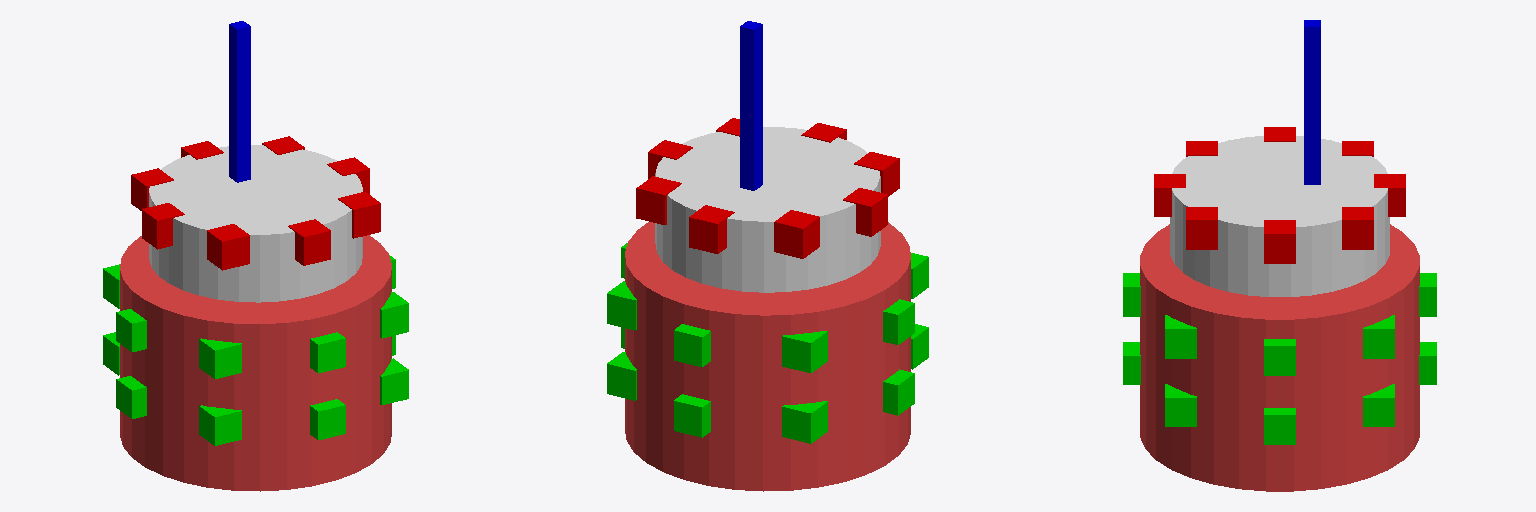
URDF robot description (random_bottle):
<?xml version="1.0"?>
<robot name="random_bottle">

  <!-- Define the cap link -->
  <link name="link1">
    <visual>
      <geometry>
        <mesh filename="cap.obj" scale="1.0 1.0 1.0"/>
      </geometry>
       <material name="white">
        <color rgba=".9 .9 .9 1"/>
      </material>

    </visual>
    <collision>
      <geometry>
        <mesh filename="cap.obj" scale="1.0 1.0 1.0"/>
      </geometry>
    </collision>

    <inertial>
      <mass value="0.012884635462993625"/> <!-- You can adjust the mass as needed -->
      <origin rpy="0 0 0" xyz="0 0 0"/>
      <inertia ixx="4.253213119469142e-06" ixy="0.0" ixz="0.0" iyy="4.253213119469142e-06" iyz="0.0" izz="7.326267027209225e-06"/>
    </inertial>
  </link>

    <link name="l10">
    <visual>
      <geometry>
        <box size="0.01 0.01 0.01"/>
      </geometry>

      <material name="red">
        <color rgba="0.9 0.0 0.0 1"/>
      </material>

    </visual>

    <inertial>
      <mass value="0.0001"/> <!-- You can adjust the mass as needed -->
      <origin rpy="0 0 0" xyz="0 0 -0.00"/> <!-- Offset by half of link1's height + 0.03m for the margin -->
      <inertia ixx="0.000000003" ixy="0.0" ixz="0.0" iyy="0.0000003" iyz="0.0" izz="0.00000003"/>
    </inertial>

  </link>
  <link name="l11">
    <visual>
      <geometry>
        <box size="0.01 0.01 0.01"/>
      </geometry>

      <material name="red">
        <color rgba="0.9 0.0 0.0 1"/>
      </material>

    </visual>

    <inertial>
      <mass value="0.0001"/> <!-- You can adjust the mass as needed -->
      <origin rpy="0 0 0" xyz="0 0 -0.00"/> <!-- Offset by half of link1's height + 0.03m for the margin -->
      <inertia ixx="0.000000003" ixy="0.0" ixz="0.0" iyy="0.0000003" iyz="0.0" izz="0.00000003"/>
    </inertial>

  </link>
  <link name="l12">
    <visual>
      <geometry>
        <box size="0.01 0.01 0.01"/>
      </geometry>

      <material name="red">
        <color rgba="0.9 0.0 0.0 1"/>
      </material>

    </visual>

    <inertial>
      <mass value="0.0001"/> <!-- You can adjust the mass as needed -->
      <origin rpy="0 0 0" xyz="0 0 -0.00"/> <!-- Offset by half of link1's height + 0.03m for the margin -->
      <inertia ixx="0.000000003" ixy="0.0" ixz="0.0" iyy="0.0000003" iyz="0.0" izz="0.00000003"/>
    </inertial>

  </link>
  <link name="l13">
    <visual>
      <geometry>
        <box size="0.01 0.01 0.01"/>
      </geometry>

      <material name="red">
        <color rgba="0.9 0.0 0.0 1"/>
      </material>

    </visual>

    <inertial>
      <mass value="0.0001"/> <!-- You can adjust the mass as needed -->
      <origin rpy="0 0 0" xyz="0 0 -0.00"/> <!-- Offset by half of link1's height + 0.03m for the margin -->
      <inertia ixx="0.000000003" ixy="0.0" ixz="0.0" iyy="0.0000003" iyz="0.0" izz="0.00000003"/>
    </inertial>

  </link>
  <link name="l10b">
    <visual>
      <geometry>
        <box size="0.01 0.01 0.01"/>
      </geometry>

      <material name="red">
        <color rgba="0.9 0.0 0.0 1"/>
      </material>

    </visual>

    <inertial>
      <mass value="0.0001"/> <!-- You can adjust the mass as needed -->
      <origin rpy="0 0 0" xyz="0 0 -0.00"/> <!-- Offset by half of link1's height + 0.03m for the margin -->
      <inertia ixx="0.000000003" ixy="0.0" ixz="0.0" iyy="0.0000003" iyz="0.0" izz="0.00000003"/>
    </inertial>

  </link>
  <link name="l11b">
    <visual>
      <geometry>
        <box size="0.01 0.01 0.01"/>
      </geometry>

      <material name="red">
        <color rgba="0.9 0.0 0.0 1"/>
      </material>

    </visual>

    <inertial>
      <mass value="0.0001"/> <!-- You can adjust the mass as needed -->
      <origin rpy="0 0 0" xyz="0 0 -0.00"/> <!-- Offset by half of link1's height + 0.03m for the margin -->
      <inertia ixx="0.000000003" ixy="0.0" ixz="0.0" iyy="0.0000003" iyz="0.0" izz="0.00000003"/>
    </inertial>

  </link>
  <link name="l12b">
    <visual>
      <geometry>
        <box size="0.01 0.01 0.01"/>
      </geometry>

      <material name="red">
        <color rgba="0.9 0.0 0.0 1"/>
      </material>

    </visual>

    <inertial>
      <mass value="0.0001"/> <!-- You can adjust the mass as needed -->
      <origin rpy="0 0 0" xyz="0 0 -0.00"/> <!-- Offset by half of link1's height + 0.03m for the margin -->
      <inertia ixx="0.000000003" ixy="0.0" ixz="0.0" iyy="0.0000003" iyz="0.0" izz="0.00000003"/>
    </inertial>

  </link>
  <link name="l13b">
    <visual>
      <geometry>
        <box size="0.01 0.01 0.01"/>
      </geometry>

      <material name="red">
        <color rgba="0.9 0.0 0.0 1"/>
      </material>

    </visual>

    <inertial>
      <mass value="0.0001"/> <!-- You can adjust the mass as needed -->
      <origin rpy="0 0 0" xyz="0 0 -0.00"/> <!-- Offset by half of link1's height + 0.03m for the margin -->
      <inertia ixx="0.000000003" ixy="0.0" ixz="0.0" iyy="0.0000003" iyz="0.0" izz="0.00000003"/>
    </inertial>

  </link>
  <link name="l20">
    <visual>
      <geometry>
        <box size="0.01 0.01 0.01"/>
      </geometry>

      <material name="red">
        <color rgba="0.0 0.9 0.0 1"/>
      </material>

    </visual>

    <inertial>
      <mass value="0.0001"/> <!-- You can adjust the mass as needed -->
      <origin rpy="0 0 0" xyz="0 0 -0.00"/> <!-- Offset by half of link1's height + 0.03m for the margin -->
      <inertia ixx="0.000000003" ixy="0.0" ixz="0.0" iyy="0.0000003" iyz="0.0" izz="0.00000003"/>
    </inertial>

  </link>
  <link name="l21">
    <visual>
      <geometry>
        <box size="0.01 0.01 0.01"/>
      </geometry>

      <material name="red">
        <color rgba="0.0 0.9 0.0 1"/>
      </material>

    </visual>

    <inertial>
      <mass value="0.0001"/> <!-- You can adjust the mass as needed -->
      <origin rpy="0 0 0" xyz="0 0 -0.00"/> <!-- Offset by half of link1's height + 0.03m for the margin -->
      <inertia ixx="0.000000003" ixy="0.0" ixz="0.0" iyy="0.0000003" iyz="0.0" izz="0.00000003"/>
    </inertial>

  </link>
  <link name="l22">
    <visual>
      <geometry>
        <box size="0.01 0.01 0.01"/>
      </geometry>

      <material name="red">
        <color rgba="0.0 0.9 0.0 1"/>
      </material>

    </visual>

    <inertial>
      <mass value="0.0001"/> <!-- You can adjust the mass as needed -->
      <origin rpy="0 0 0" xyz="0 0 -0.00"/> <!-- Offset by half of link1's height + 0.03m for the margin -->
      <inertia ixx="0.000000003" ixy="0.0" ixz="0.0" iyy="0.0000003" iyz="0.0" izz="0.00000003"/>
    </inertial>

  </link>
  <link name="l23">
    <visual>
      <geometry>
        <box size="0.01 0.01 0.01"/>
      </geometry>

      <material name="red">
        <color rgba="0.0 0.9 0.0 1"/>
      </material>

    </visual>

    <inertial>
      <mass value="0.0001"/> <!-- You can adjust the mass as needed -->
      <origin rpy="0 0 0" xyz="0 0 -0.00"/> <!-- Offset by half of link1's height + 0.03m for the margin -->
      <inertia ixx="0.000000003" ixy="0.0" ixz="0.0" iyy="0.0000003" iyz="0.0" izz="0.00000003"/>
    </inertial>

  </link>
  <link name="l24">
    <visual>
      <geometry>
        <box size="0.01 0.01 0.01"/>
      </geometry>

      <material name="red">
        <color rgba="0.0 0.9 0.0 1"/>
      </material>

    </visual>

    <inertial>
      <mass value="0.0001"/> <!-- You can adjust the mass as needed -->
      <origin rpy="0 0 0" xyz="0 0 -0.00"/> <!-- Offset by half of link1's height + 0.03m for the margin -->
      <inertia ixx="0.000000003" ixy="0.0" ixz="0.0" iyy="0.0000003" iyz="0.0" izz="0.00000003"/>
    </inertial>

  </link>
  <link name="l25">
    <visual>
      <geometry>
        <box size="0.01 0.01 0.01"/>
      </geometry>

      <material name="red">
        <color rgba="0.0 0.9 0.0 1"/>
      </material>

    </visual>

    <inertial>
      <mass value="0.0001"/> <!-- You can adjust the mass as needed -->
      <origin rpy="0 0 0" xyz="0 0 -0.00"/> <!-- Offset by half of link1's height + 0.03m for the margin -->
      <inertia ixx="0.000000003" ixy="0.0" ixz="0.0" iyy="0.0000003" iyz="0.0" izz="0.00000003"/>
    </inertial>

  </link>
  <link name="l26">
    <visual>
      <geometry>
        <box size="0.01 0.01 0.01"/>
      </geometry>

      <material name="red">
        <color rgba="0.0 0.9 0.0 1"/>
      </material>

    </visual>

    <inertial>
      <mass value="0.0001"/> <!-- You can adjust the mass as needed -->
      <origin rpy="0 0 0" xyz="0 0 -0.00"/> <!-- Offset by half of link1's height + 0.03m for the margin -->
      <inertia ixx="0.000000003" ixy="0.0" ixz="0.0" iyy="0.0000003" iyz="0.0" izz="0.00000003"/>
    </inertial>

  </link>
  <link name="l27">
    <visual>
      <geometry>
        <box size="0.01 0.01 0.01"/>
      </geometry>

      <material name="red">
        <color rgba="0.0 0.9 0.0 1"/>
      </material>

    </visual>

    <inertial>
      <mass value="0.0001"/> <!-- You can adjust the mass as needed -->
      <origin rpy="0 0 0" xyz="0 0 -0.00"/> <!-- Offset by half of link1's height + 0.03m for the margin -->
      <inertia ixx="0.000000003" ixy="0.0" ixz="0.0" iyy="0.0000003" iyz="0.0" izz="0.00000003"/>
    </inertial>

  </link>
  <link name="l30">
    <visual>
      <geometry>
        <box size="0.01 0.01 0.01"/>
      </geometry>

      <material name="red">
        <color rgba="0.0 0.9 0.0 1"/>
      </material>

    </visual>

    <inertial>
      <mass value="0.0001"/> <!-- You can adjust the mass as needed -->
      <origin rpy="0 0 0" xyz="0 0 -0.00"/> <!-- Offset by half of link1's height + 0.03m for the margin -->
      <inertia ixx="0.000000003" ixy="0.0" ixz="0.0" iyy="0.0000003" iyz="0.0" izz="0.00000003"/>
    </inertial>

  </link>
  <link name="l31">
    <visual>
      <geometry>
        <box size="0.01 0.01 0.01"/>
      </geometry>

      <material name="red">
        <color rgba="0.0 0.9 0.0 1"/>
      </material>

    </visual>

    <inertial>
      <mass value="0.0001"/> <!-- You can adjust the mass as needed -->
      <origin rpy="0 0 0" xyz="0 0 -0.00"/> <!-- Offset by half of link1's height + 0.03m for the margin -->
      <inertia ixx="0.000000003" ixy="0.0" ixz="0.0" iyy="0.0000003" iyz="0.0" izz="0.00000003"/>
    </inertial>

  </link>
  <link name="l32">
    <visual>
      <geometry>
        <box size="0.01 0.01 0.01"/>
      </geometry>

      <material name="red">
        <color rgba="0.0 0.9 0.0 1"/>
      </material>

    </visual>

    <inertial>
      <mass value="0.0001"/> <!-- You can adjust the mass as needed -->
      <origin rpy="0 0 0" xyz="0 0 -0.00"/> <!-- Offset by half of link1's height + 0.03m for the margin -->
      <inertia ixx="0.000000003" ixy="0.0" ixz="0.0" iyy="0.0000003" iyz="0.0" izz="0.00000003"/>
    </inertial>

  </link>
  <link name="l33">
    <visual>
      <geometry>
        <box size="0.01 0.01 0.01"/>
      </geometry>

      <material name="red">
        <color rgba="0.0 0.9 0.0 1"/>
      </material>

    </visual>

    <inertial>
      <mass value="0.0001"/> <!-- You can adjust the mass as needed -->
      <origin rpy="0 0 0" xyz="0 0 -0.00"/> <!-- Offset by half of link1's height + 0.03m for the margin -->
      <inertia ixx="0.000000003" ixy="0.0" ixz="0.0" iyy="0.0000003" iyz="0.0" izz="0.00000003"/>
    </inertial>

  </link>
  <link name="l34">
    <visual>
      <geometry>
        <box size="0.01 0.01 0.01"/>
      </geometry>

      <material name="red">
        <color rgba="0.0 0.9 0.0 1"/>
      </material>

    </visual>

    <inertial>
      <mass value="0.0001"/> <!-- You can adjust the mass as needed -->
      <origin rpy="0 0 0" xyz="0 0 -0.00"/> <!-- Offset by half of link1's height + 0.03m for the margin -->
      <inertia ixx="0.000000003" ixy="0.0" ixz="0.0" iyy="0.0000003" iyz="0.0" izz="0.00000003"/>
    </inertial>

  </link>
  <link name="l35">
    <visual>
      <geometry>
        <box size="0.01 0.01 0.01"/>
      </geometry>

      <material name="red">
        <color rgba="0.0 0.9 0.0 1"/>
      </material>

    </visual>

    <inertial>
      <mass value="0.0001"/> <!-- You can adjust the mass as needed -->
      <origin rpy="0 0 0" xyz="0 0 -0.00"/> <!-- Offset by half of link1's height + 0.03m for the margin -->
      <inertia ixx="0.000000003" ixy="0.0" ixz="0.0" iyy="0.0000003" iyz="0.0" izz="0.00000003"/>
    </inertial>

  </link>
  <link name="l36">
    <visual>
      <geometry>
        <box size="0.01 0.01 0.01"/>
      </geometry>

      <material name="red">
        <color rgba="0.0 0.9 0.0 1"/>
      </material>

    </visual>

    <inertial>
      <mass value="0.0001"/> <!-- You can adjust the mass as needed -->
      <origin rpy="0 0 0" xyz="0 0 -0.00"/> <!-- Offset by half of link1's height + 0.03m for the margin -->
      <inertia ixx="0.000000003" ixy="0.0" ixz="0.0" iyy="0.0000003" iyz="0.0" izz="0.00000003"/>
    </inertial>

  </link>
  <link name="l37">
    <visual>
      <geometry>
        <box size="0.01 0.01 0.01"/>
      </geometry>

      <material name="red">
        <color rgba="0.0 0.9 0.0 1"/>
      </material>

    </visual>

    <inertial>
      <mass value="0.0001"/> <!-- You can adjust the mass as needed -->
      <origin rpy="0 0 0" xyz="0 0 -0.00"/> <!-- Offset by half of link1's height + 0.03m for the margin -->
      <inertia ixx="0.000000003" ixy="0.0" ixz="0.0" iyy="0.0000003" iyz="0.0" izz="0.00000003"/>
    </inertial>

  </link>


  <link name="hint">
    <visual>
      <geometry>
        <box size="0.005 0.005 0.07"/> <!-- 9cm x 9cm x 6cm -->
      </geometry>
       <material name="blue">
        <color rgba=".0 .0 .9 1"/>
      </material>
    </visual>

    <inertial>
      <mass value="0.0001"/> <!-- You can adjust the mass as needed -->
      <origin rpy="0 0 0" xyz="0 0 -0.00"/> <!-- Offset by half of link1's height + 0.03m for the margin -->
      <inertia ixx="0.000000003" ixy="0.0" ixz="0.0" iyy="0.0000003" iyz="0.0" izz="0.00000003"/>
    </inertial>


  </link>

  <!-- Define the base link -->
  <link name="link2">
    <visual>
      <geometry>
        <mesh filename="base.obj" scale="1.0 1.0 1.0"/>
      </geometry>
      <material name="red">
        <color rgba=".9 .3 .3 1"/>
      </material>

    </visual>

    <collision>
      <geometry>
        <mesh filename="base.obj" scale="1.0 1.0 1.0"/>
      </geometry>
    </collision>

    <inertial>
      <mass value="0.056035342145890815"/> <!-- You can adjust the mass as needed -->
      <origin rpy="0 0 0" xyz="0 0 -0.00"/> <!-- Offset by half of link1's height + 0.03m for the margin -->
      <inertia ixx="4.159430433016152e-05" ixy="0.0" ixz="0.0" iyy="4.159430433016152e-05" iyz="0.0" izz="5.165880398011066e-05"/>
    </inertial>
  </link>



  <link name="brake">
   <visual>
      <geometry>
        <box size="0.02 0.02 0.005"/> <!-- 6cm x 6cm x 2cm -->
      </geometry>
       <material name="gray">
        <color rgba=".5 .5 .5 1"/>
      </material>

    </visual>
    <collision>
      <geometry>
        <box size="0.02 0.02 0.005"/> <!-- 6cm x 6cm x 2cm -->
      </geometry>
    </collision>

    <inertial>
      <mass value="0.005"/> <!-- You can adjust the mass as needed -->
      <origin rpy="0 0 0" xyz="0 0 0"/>
      <inertia ixx="0.00018" ixy="0.0" ixz="0.0" iyy="0.00018" iyz="0.0" izz="0.00018"/>
    </inertial>
  </link>

  <!-- Define the joint connecting link1 and link2 as a revolute joint along z-axis -->
  <joint name="fix_joint" type="fixed">
    <parent link="link1"/>
    <child link="hint"/>
    <origin rpy="0 0 0" xyz="0 0.01 0.03"/> <!-- Offset by half of link1's height for the margin -->
    <axis xyz="0 0 1"/>
  </joint>

  <!-- Define the joint connecting link1 and link2 as a revolute joint along z-axis -->
  <joint name="brake_joint" type="prismatic">
    <parent link="link2"/>
    <child link="brake"/>
    <origin rpy="0 0 0" xyz="0 0 0.05249476808766636"/> <!-- Offset by half of link1's height for the margin -->
    <axis xyz="0 0 1"/>
    <limit lower="-0.02" upper="0.02" />
    <!-- <dynamics damping="0.0" friction="0.0"/> -->
  </joint>


  <joint name="b_joint" type="revolute">
    <parent link="link2"/>
    <child link="link1"/>
    <origin rpy="0 0 0" xyz="0 0 0.044051947837102534"/> <!-- Offset by half of link1's height for the margin -->
    <axis xyz="0 0 1"/>
    <!-- No joint limits -->
    <dynamics damping="0.0" friction="0.0"/>
  </joint>


  <!-- marker -->
    <joint name="jl10" type="fixed">
    <parent link="link1"/>
    <child link="l10"/>
    <origin rpy="0 0 0" xyz="0.0 0.03372254180981029 0.007032846075169147"/> <!-- Offset by half of link1's height for the margin -->
    <axis xyz="0 0 1"/>
  </joint>
  <joint name="jl11" type="fixed">
    <parent link="link1"/>
    <child link="l11"/>
    <origin rpy="0 0 0" xyz="0.0238454376730957 0.023845438312031744 0.007032846075169147"/> <!-- Offset by half of link1's height for the margin -->
    <axis xyz="0 0 1"/>
  </joint>
  <joint name="jl12" type="fixed">
    <parent link="link1"/>
    <child link="l12"/>
    <origin rpy="0 0 0" xyz="0.033722541809810276 9.03592020378171e-10 0.007032846075169147"/> <!-- Offset by half of link1's height for the margin -->
    <axis xyz="0 0 1"/>
  </joint>
  <joint name="jl13" type="fixed">
    <parent link="link1"/>
    <child link="l13"/>
    <origin rpy="0 0 0" xyz="0.023845438950967766 -0.02384543703415964 0.007032846075169147"/> <!-- Offset by half of link1's height for the margin -->
    <axis xyz="0 0 1"/>
  </joint>
  <joint name="jl10b" type="fixed">
    <parent link="link1"/>
    <child link="l10b"/>
    <origin rpy="0 0 0" xyz="1.8071840407563414e-09 -0.03372254180981024 0.007032846075169147"/> <!-- Offset by half of link1's height for the margin -->
    <axis xyz="0 0 1"/>
  </joint>
  <joint name="jl11b" type="fixed">
    <parent link="link1"/>
    <child link="l11b"/>
    <origin rpy="0 0 0" xyz="-0.023845436395223556 -0.02384543958990379 0.007032846075169147"/> <!-- Offset by half of link1's height for the margin -->
    <axis xyz="0 0 1"/>
  </joint>
  <joint name="jl12b" type="fixed">
    <parent link="link1"/>
    <child link="l12b"/>
    <origin rpy="0 0 0" xyz="-0.03372254180981018 -2.7107760461586936e-09 0.007032846075169147"/> <!-- Offset by half of link1's height for the margin -->
    <axis xyz="0 0 1"/>
  </joint>
  <joint name="jl13b" type="fixed">
    <parent link="link1"/>
    <child link="l13b"/>
    <origin rpy="0 0 0" xyz="-0.023845440228839773 0.02384543575628747 0.007032846075169147"/> <!-- Offset by half of link1's height for the margin -->
    <axis xyz="0 0 1"/>
  </joint>
  <joint name="jl20" type="fixed">
    <parent link="link2"/>
    <child link="l20"/>
    <origin rpy="0 0 0" xyz="0.0 0.042939418357247974 0.017431168702261517"/> <!-- Offset by half of link1's height for the margin -->
    <axis xyz="0 0 1"/>
  </joint>
  <joint name="jl21" type="fixed">
    <parent link="link2"/>
    <child link="l21"/>
    <origin rpy="0 0 0" xyz="0.030362753493832738 0.030362754307399587 0.017431168702261517"/> <!-- Offset by half of link1's height for the margin -->
    <axis xyz="0 0 1"/>
  </joint>
  <joint name="jl22" type="fixed">
    <parent link="link2"/>
    <child link="l22"/>
    <origin rpy="0 0 0" xyz="0.04293941835724796 1.1505572743037395e-09 0.017431168702261517"/> <!-- Offset by half of link1's height for the margin -->
    <axis xyz="0 0 1"/>
  </joint>
  <joint name="jl23" type="fixed">
    <parent link="link2"/>
    <child link="l23"/>
    <origin rpy="0 0 0" xyz="0.03036275512096641 -0.030362752680265868 0.017431168702261517"/> <!-- Offset by half of link1's height for the margin -->
    <axis xyz="0 0 1"/>
  </joint>
  <joint name="jl24" type="fixed">
    <parent link="link2"/>
    <child link="l24"/>
    <origin rpy="0 0 0" xyz="2.301114548607478e-09 -0.04293941835724791 0.017431168702261517"/> <!-- Offset by half of link1's height for the margin -->
    <axis xyz="0 0 1"/>
  </joint>
  <joint name="jl25" type="fixed">
    <parent link="link2"/>
    <child link="l25"/>
    <origin rpy="0 0 0" xyz="-0.030362751866698966 -0.03036275593453323 0.017431168702261517"/> <!-- Offset by half of link1's height for the margin -->
    <axis xyz="0 0 1"/>
  </joint>
  <joint name="jl26" type="fixed">
    <parent link="link2"/>
    <child link="l26"/>
    <origin rpy="0 0 0" xyz="-0.042939418357247836 -3.451671803842283e-09 0.017431168702261517"/> <!-- Offset by half of link1's height for the margin -->
    <axis xyz="0 0 1"/>
  </joint>
  <joint name="jl27" type="fixed">
    <parent link="link2"/>
    <child link="l27"/>
    <origin rpy="0 0 0" xyz="-0.0303627567481 0.03036275105313206 0.017431168702261517"/> <!-- Offset by half of link1's height for the margin -->
    <axis xyz="0 0 1"/>
  </joint>
  <joint name="jl30" type="fixed">
    <parent link="link2"/>
    <child link="l30"/>
    <origin rpy="0 0 0" xyz="0.0 0.042939418357247974 -0.005810389567420506"/> <!-- Offset by half of link1's height for the margin -->
    <axis xyz="0 0 1"/>
  </joint>
  <joint name="jl31" type="fixed">
    <parent link="link2"/>
    <child link="l31"/>
    <origin rpy="0 0 0" xyz="0.030362753493832738 0.030362754307399587 -0.005810389567420506"/> <!-- Offset by half of link1's height for the margin -->
    <axis xyz="0 0 1"/>
  </joint>
  <joint name="jl32" type="fixed">
    <parent link="link2"/>
    <child link="l32"/>
    <origin rpy="0 0 0" xyz="0.04293941835724796 1.1505572743037395e-09 -0.005810389567420506"/> <!-- Offset by half of link1's height for the margin -->
    <axis xyz="0 0 1"/>
  </joint>
  <joint name="jl33" type="fixed">
    <parent link="link2"/>
    <child link="l33"/>
    <origin rpy="0 0 0" xyz="0.03036275512096641 -0.030362752680265868 -0.005810389567420506"/> <!-- Offset by half of link1's height for the margin -->
    <axis xyz="0 0 1"/>
  </joint>
  <joint name="jl34" type="fixed">
    <parent link="link2"/>
    <child link="l34"/>
    <origin rpy="0 0 0" xyz="2.301114548607478e-09 -0.04293941835724791 -0.005810389567420506"/> <!-- Offset by half of link1's height for the margin -->
    <axis xyz="0 0 1"/>
  </joint>
  <joint name="jl35" type="fixed">
    <parent link="link2"/>
    <child link="l35"/>
    <origin rpy="0 0 0" xyz="-0.030362751866698966 -0.03036275593453323 -0.005810389567420506"/> <!-- Offset by half of link1's height for the margin -->
    <axis xyz="0 0 1"/>
  </joint>
  <joint name="jl36" type="fixed">
    <parent link="link2"/>
    <child link="l36"/>
    <origin rpy="0 0 0" xyz="-0.042939418357247836 -3.451671803842283e-09 -0.005810389567420506"/> <!-- Offset by half of link1's height for the margin -->
    <axis xyz="0 0 1"/>
  </joint>
  <joint name="jl37" type="fixed">
    <parent link="link2"/>
    <child link="l37"/>
    <origin rpy="0 0 0" xyz="-0.0303627567481 0.03036275105313206 -0.005810389567420506"/> <!-- Offset by half of link1's height for the margin -->
    <axis xyz="0 0 1"/>
  </joint>



</robot>

--- What the picture shows (computed from the rendered views, not written in the file) ---
Views: 3 orthographic renders of the robot side by side, from view 1: azimuth 30°, elevation 25°; view 2: azimuth 150°, elevation 25°; view 3: azimuth 270°, elevation 25°.
Model random_bottle with 28 links and 27 joints (1 revolute, 1 prismatic, 25 fixed), rooted at link2, posed every joint at zero.
Visible links, largest first — view 1: link2, link1, hint, l11b, l10b, l25, l35, l12b, l13, l34, l24, l26 (+7 smaller); view 2: link2, link1, hint, l13b, l37, l27, l10, l12b, l11, l30, l20, l36 (+8 smaller); view 3: link2, link1, hint, l12, l11, l13, l21, l23, l22, l32, l31, l33 (+6 smaller).
Link boxes in pixels (x1=…): link2: x1=120, y1=235, x2=391, y2=491; link1: x1=149, y1=145, x2=362, y2=302; hint: x1=229, y1=21, x2=250, y2=182; l11b: x1=207, y1=224, x2=249, y2=270; l10b: x1=288, y1=219, x2=330, y2=265; l25: x1=199, y1=338, x2=241, y2=378; l35: x1=199, y1=405, x2=241, y2=445; l12b: x1=142, y1=203, x2=184, y2=249; l13: x1=338, y1=192, x2=380, y2=238; l34: x1=310, y1=399, x2=345, y2=439; l24: x1=310, y1=332, x2=345, y2=373; l26: x1=116, y1=309, x2=146, y2=351; link2: x1=625, y1=222, x2=910, y2=491; link1: x1=655, y1=127, x2=880, y2=292; hint: x1=740, y1=21, x2=762, y2=190; l13b: x1=774, y1=210, x2=819, y2=258; l37: x1=782, y1=401, x2=827, y2=443; l27: x1=782, y1=331, x2=827, y2=372; l10: x1=689, y1=205, x2=734, y2=253; l12b: x1=843, y1=188, x2=887, y2=236; l11: x1=636, y1=176, x2=681, y2=224; l30: x1=674, y1=394, x2=710, y2=437; l20: x1=674, y1=324, x2=710, y2=366; l36: x1=883, y1=369, x2=914, y2=415; link2: x1=1140, y1=224, x2=1419, y2=491; link1: x1=1170, y1=136, x2=1389, y2=296; hint: x1=1304, y1=20, x2=1320, y2=184; l12: x1=1264, y1=220, x2=1295, y2=263; l11: x1=1342, y1=207, x2=1373, y2=249; l13: x1=1186, y1=207, x2=1217, y2=249; l21: x1=1363, y1=315, x2=1394, y2=358; l23: x1=1165, y1=315, x2=1196, y2=358; l22: x1=1264, y1=339, x2=1295, y2=375; l32: x1=1264, y1=408, x2=1295, y2=444; l31: x1=1363, y1=384, x2=1394, y2=426; l33: x1=1165, y1=384, x2=1196, y2=426.
Size in the robot's own frame: 0.0959 by 0.0959 by 0.1381 metres.
Meshes: 2 distinct files referenced, 2 mesh visuals loaded (2 OBJ).
